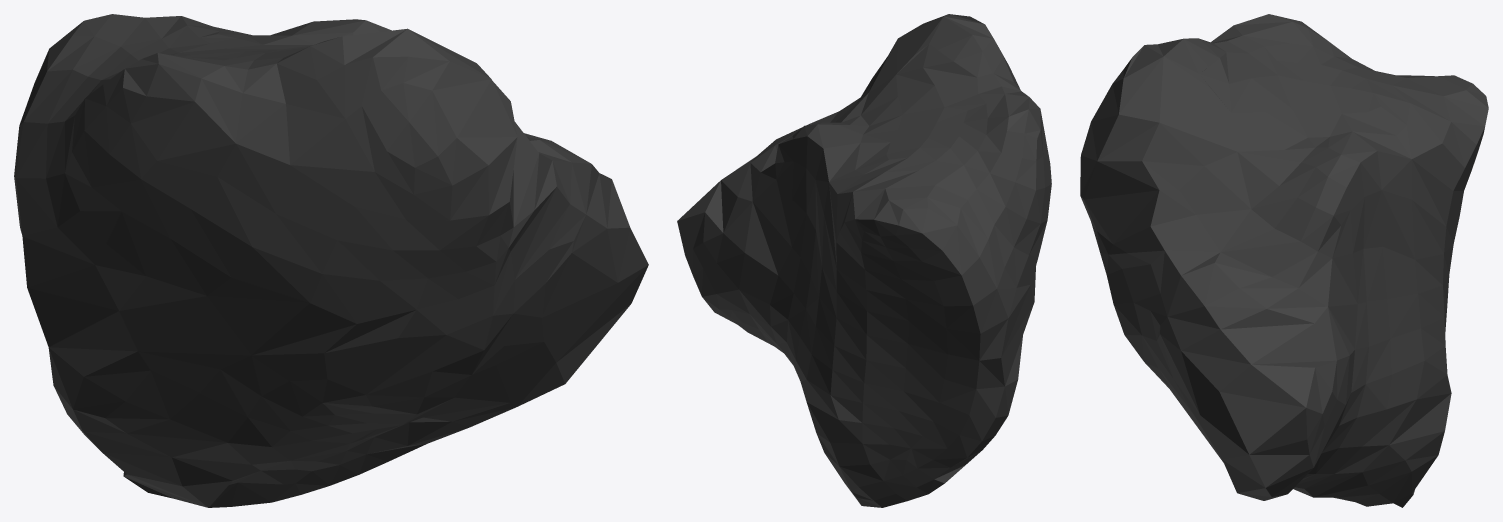
Rendered from Patella_R.glb.
The picture shows the model from 3 angles, left to right: view 1: azimuth 30°, elevation 25°; view 2: azimuth 150°, elevation 25°; view 3: azimuth 270°, elevation 25°; orthographic projection. The views are drawn at different scales.
Parts seen in each view (by area): view 1: Patella_R; view 2: Patella_R; view 3: Patella_R.
Boxes of the visible parts, x1,y1,x2,y2 form: Patella_R: (14, 14, 648, 507); Patella_R: (677, 14, 1051, 507); Patella_R: (1080, 14, 1488, 507).
Bounding box in the file's own units: 0.089 × 0.0912 × 0.0728.
1 material, 1 textured.
